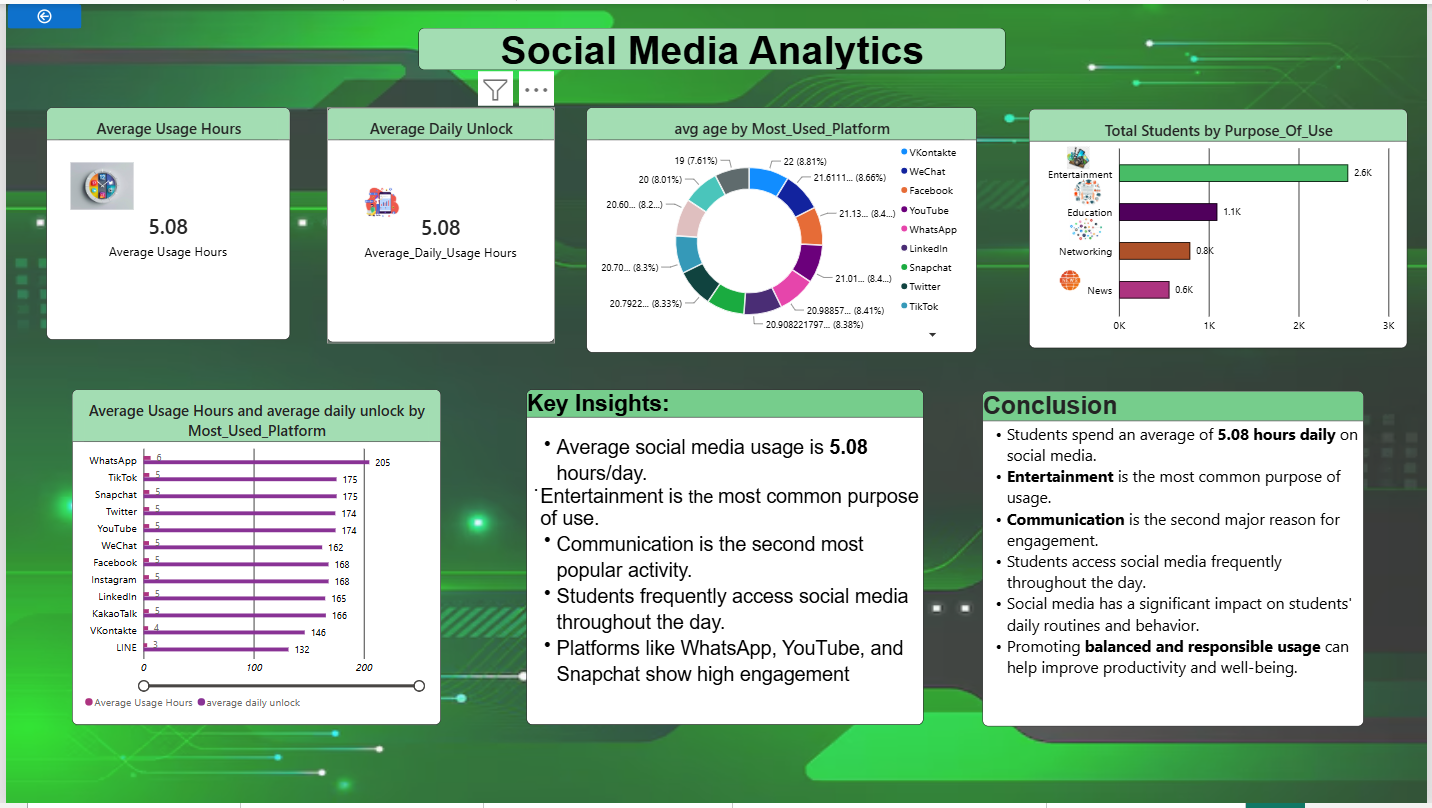

Layout of this report page (visuals, bound fields, positions):
{"tool":"powerbi","page":{"name":"Social Media Analytics","canvas":[1920,1080],"ordinal":1},"visuals":[{"type":"donutChart","fields":{"Category":["Student Social Media And Mental Health Impact.Most_Used_Platform"],"Y":["Student Social Media And Mental Health Impact.avg age"]},"box":[784.3,139.2,527.5,331.4],"z":0},{"type":"group","id":"g1","title":"Group 2","box":[1382.1,141.8,511.2,323.5],"z":0,"group":"g3"},{"type":"image","box":[1387.9,357.7,124.3,37.5],"z":0,"group":"g1"},{"type":"card","title":"Average Daily Unlock","fields":{"Values":["Student Social Media And Mental Health Impact.Average_Daily_Usage Hours"]},"box":[433.3,139.2,307.8,317.6],"z":1000,"group":"g4"},{"type":"group","id":"g2","title":"Group 3","box":[1382.1,141.8,511.2,323.5],"z":1000,"group":"g1"},{"type":"clusteredBarChart","fields":{"Category":["Student Social Media And Mental Health Impact.Purpose_Of_Use"],"Y":["Student Social Media And Mental Health Impact.Total Students"]},"box":[1382.1,141.8,511.2,323.5],"z":1000,"group":"g2"},{"type":"image","box":[1437.8,235.8,52,40.2],"z":1000,"group":"g3"},{"type":"clusteredBarChart","fields":{"Category":["Student Social Media And Mental Health Impact.Most_Used_Platform"],"Y":["Student Social Media And Mental Health Impact.Average Usage Hours","Student Social Media And Mental Health Impact.average daily unlock"]},"box":[88.3,521.7,498.3,453.3],"z":1000},{"type":"textbox","title":"Social Media Analytics","box":[556.7,33.3,793.3,56.7],"z":2000},{"type":"image","box":[1428.2,193.1,40.3,30.7],"z":2000,"group":"g3"},{"type":"image","box":[458.1,207.9,100,118.8],"z":2000,"group":"g4"},{"type":"image","box":[1413.1,357.7,50.3,33.1],"z":2000,"group":"g1"},{"type":"group","id":"g3","title":"Group 4","box":[1382.1,141.8,510.3,323.7],"z":3000},{"type":"actionButton","box":[3,0,100.3,33.4],"z":4000},{"type":"group","id":"g4","title":"Group 1","box":[433.3,139.2,307.8,317.6],"z":5000},{"type":"card","title":"Average Usage Hours","fields":{"Values":["Student Social Media And Mental Health Impact.Average Usage Hours"]},"box":[54.9,139.2,329.4,313.7],"z":6000},{"type":"image","box":[1436.1,288.4,44.9,33.1],"z":6002,"group":"g2"},{"type":"image","box":[88.1,200.5,85.1,91.1],"z":7000},{"type":"textbox","title":"Key Insights:","box":[703.3,521.7,536.7,453.3],"z":9000},{"type":"textbox","title":"Conclusion","box":[1320.7,522.1,515.1,453.6],"z":10000}]}

Visuals, with their boxes in screenshot pixels (x1, y1, x2, y2), scaled from the page's 1920x1080 canvas onto the 1432x808 screenshot:
donutChart - Student Social Media And Mental Health Impact.Most_Used_Platform x Student Social Media And Mental Health Impact.avg age: 585:104:978:352
"Group 2" group: 1031:106:1412:348
image: 1035:268:1128:296
"Average Daily Unlock" card: 323:104:553:342
"Group 3" group: 1031:106:1412:348
clusteredBarChart - Student Social Media And Mental Health Impact.Purpose_Of_Use x Student Social Media And Mental Health Impact.Total Students: 1031:106:1412:348
image: 1072:176:1111:206
clusteredBarChart - Student Social Media And Mental Health Impact.Most_Used_Platform x Student Social Media And Mental Health Impact.Average Usage Hours: 66:390:438:729
"Social Media Analytics" textbox: 415:25:1007:67
image: 1065:144:1095:167
image: 342:156:416:244
image: 1054:268:1091:292
"Group 4" group: 1031:106:1411:348
actionButton: 2:0:77:25
"Group 1" group: 323:104:553:342
"Average Usage Hours" card: 41:104:287:339
image: 1071:216:1105:241
image: 66:150:129:218
"Key Insights:" textbox: 525:390:925:729
"Conclusion" textbox: 985:391:1369:730
